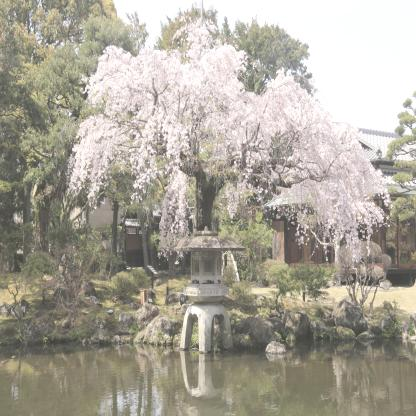ShidareZakura: (66, 19, 393, 277)
